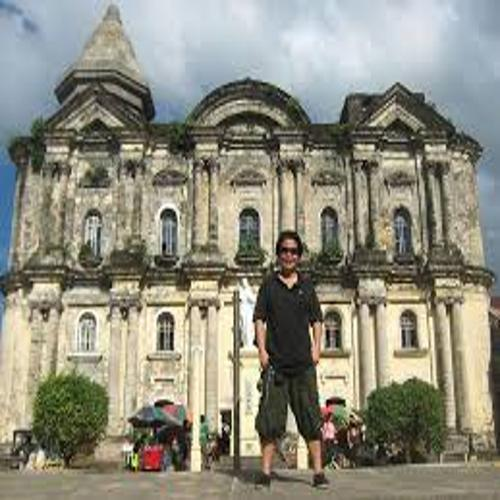Taal Basilica Church: (7, 1, 495, 446)
